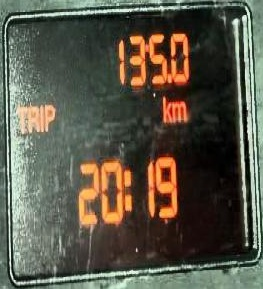-: (166, 72, 171, 81)
0: (99, 158, 122, 222), (169, 31, 188, 81)
1: (145, 158, 154, 218), (117, 37, 123, 84)
2: (77, 161, 98, 223)
3: (128, 34, 145, 84)
5: (147, 32, 166, 81)
9: (154, 156, 177, 218)
X: (122, 167, 131, 210), (172, 99, 186, 123), (161, 93, 171, 123), (44, 103, 55, 130), (27, 105, 38, 131), (16, 106, 26, 133), (39, 103, 42, 130)
